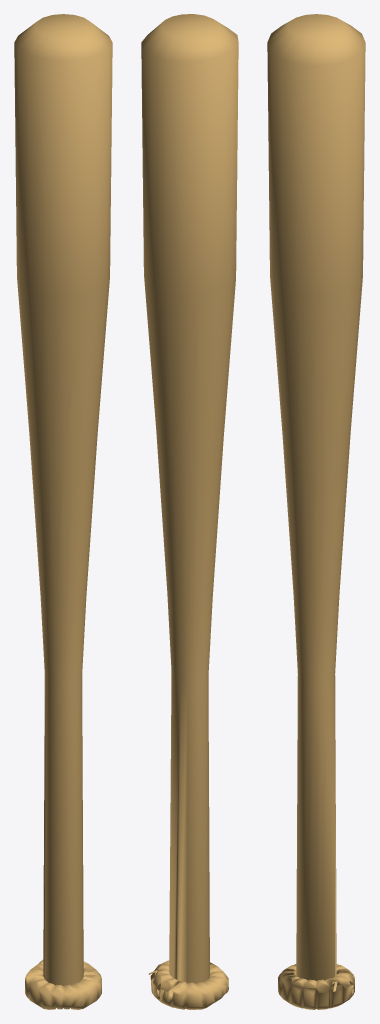
Rendered from bat.fbx.
3 renders of one model, left to right at view 1: azimuth 90°, elevation 25°; view 2: azimuth 150°, elevation 25°; view 3: azimuth 270°, elevation 25°, orthographic.
Parts seen in each view (by area): view 1: bat; view 2: bat; view 3: bat.
Part boxes in pixels (<box>): bat: <box>14,14,112,1009</box>; bat: <box>141,14,238,1009</box>; bat: <box>267,14,365,1009</box>.
Bounding box in the file's own units: 38.76 × 423 × 38.76.
